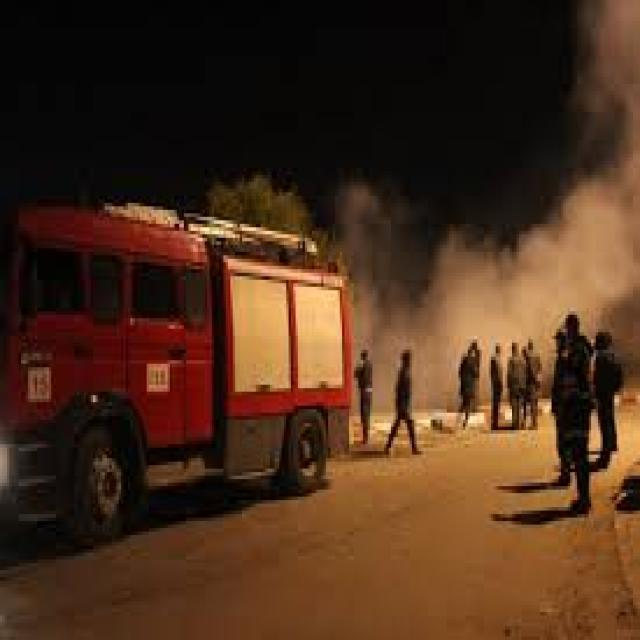emergency: (1, 200, 363, 506)
